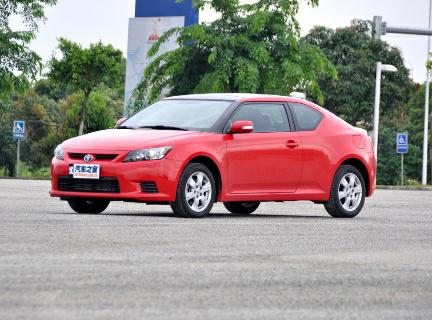丰田-杰路驰: (43, 87, 384, 230)
